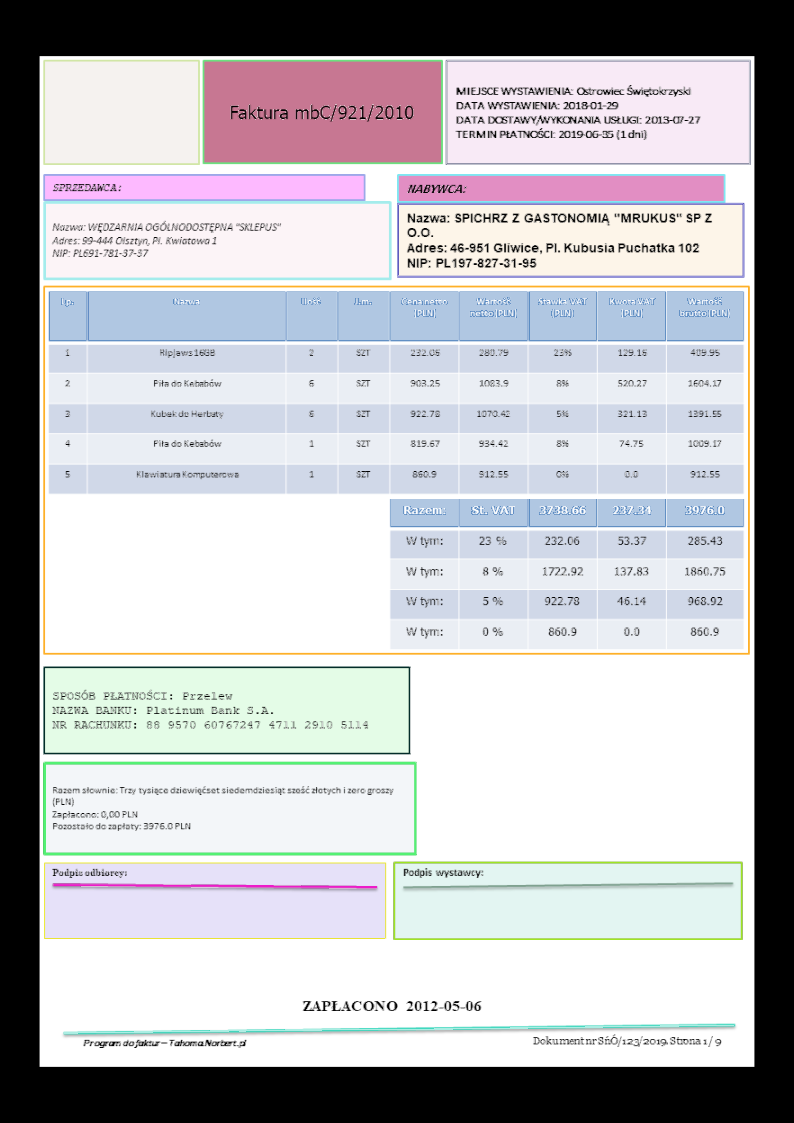Table: (46, 289, 746, 497), (389, 498, 747, 650)
TextBox: (402, 207, 716, 274), (49, 782, 397, 835), (50, 685, 371, 736), (451, 82, 704, 144), (49, 215, 286, 262), (220, 95, 417, 127), (528, 1032, 725, 1052), (299, 997, 487, 1017), (79, 1032, 252, 1051), (399, 864, 488, 882), (49, 863, 130, 882), (403, 177, 468, 199), (47, 178, 122, 196)
